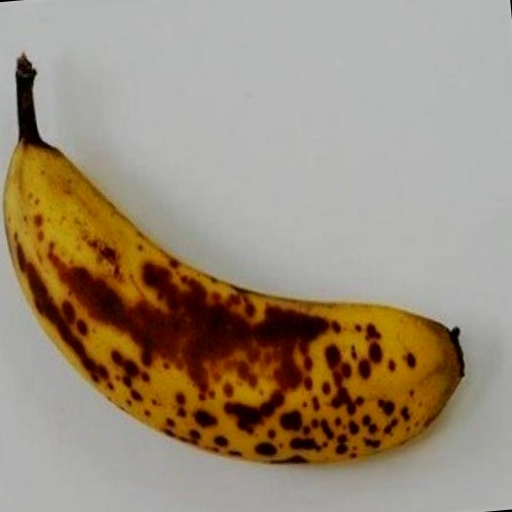fruit: (4, 56, 463, 463)
